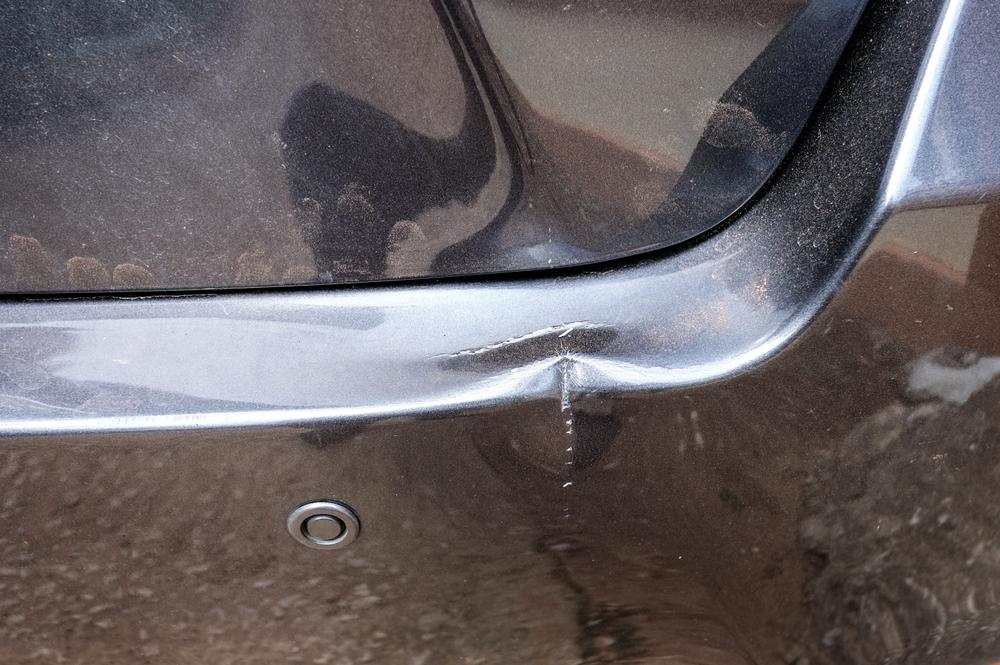dent: (510, 359, 621, 474)
